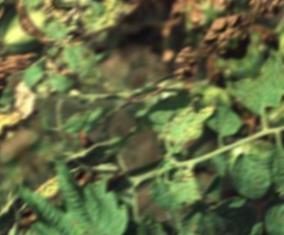Tomato Septoria leaf spot: (133, 148, 214, 229), (152, 87, 225, 155), (217, 138, 283, 207), (163, 186, 234, 235), (224, 66, 281, 127), (198, 92, 250, 146)
